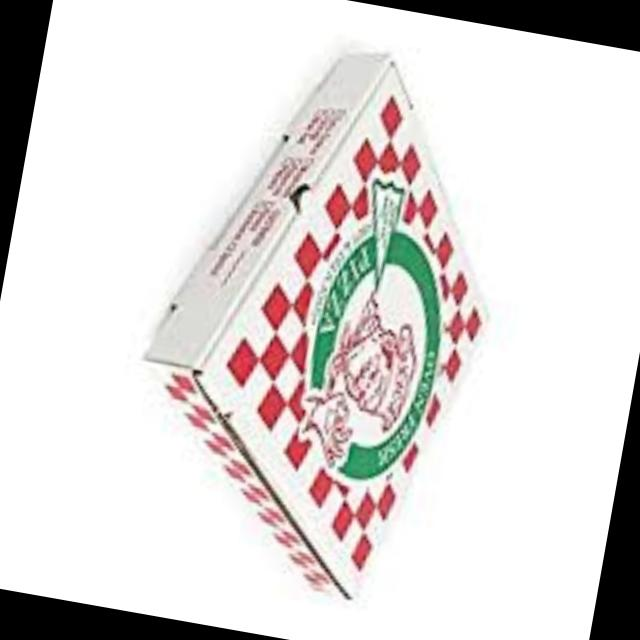cardboard paper: (153, 52, 489, 594)
